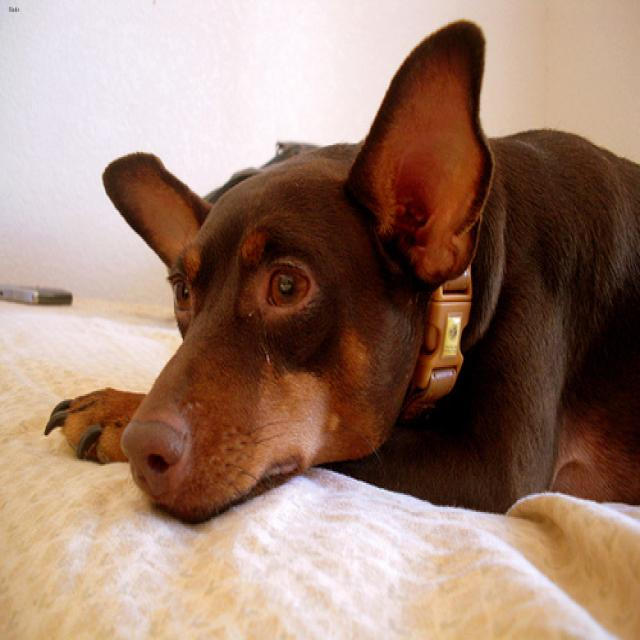dog: (100, 18, 491, 520)
